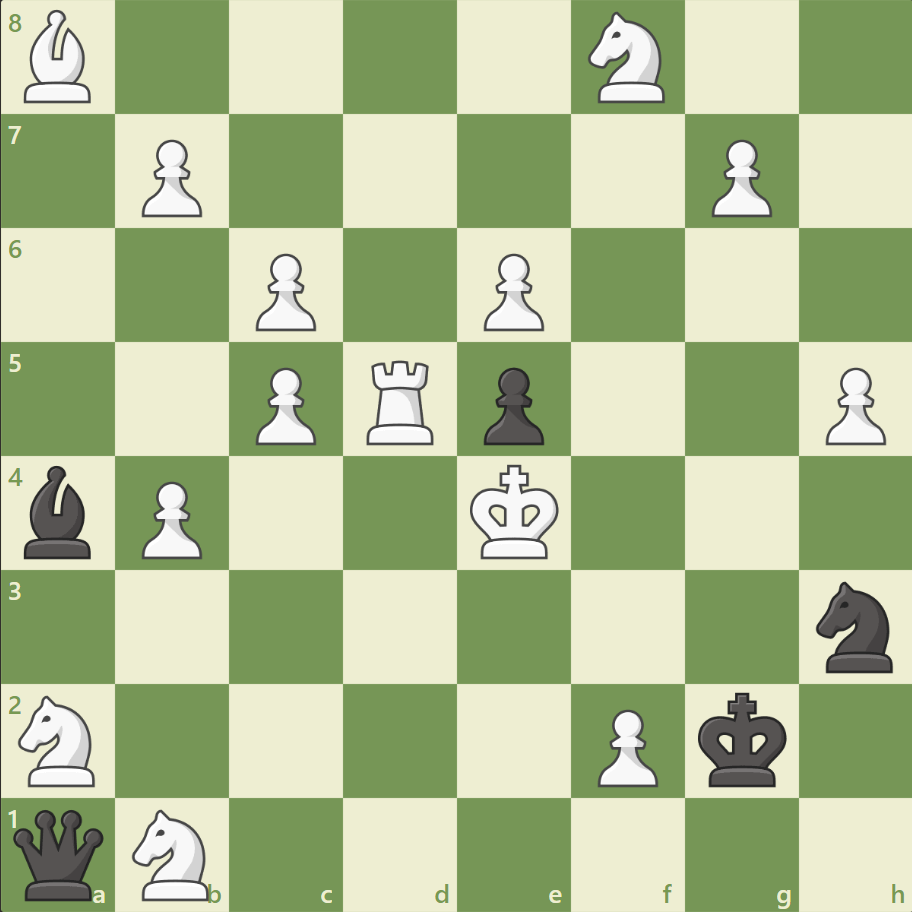B: (17, 6, 101, 109)
K: (465, 458, 565, 566)
N: (124, 802, 222, 904), (579, 7, 676, 110), (11, 688, 108, 791)
P: (133, 132, 208, 223), (701, 132, 776, 223), (247, 246, 322, 337), (474, 246, 549, 337), (247, 359, 322, 450), (133, 473, 208, 564), (815, 359, 889, 450), (588, 700, 662, 791)
R: (360, 352, 442, 449)
b: (17, 460, 101, 563)
k: (692, 685, 792, 793)
n: (806, 575, 903, 677)
p: (474, 359, 549, 450)
q: (10, 804, 109, 903)
